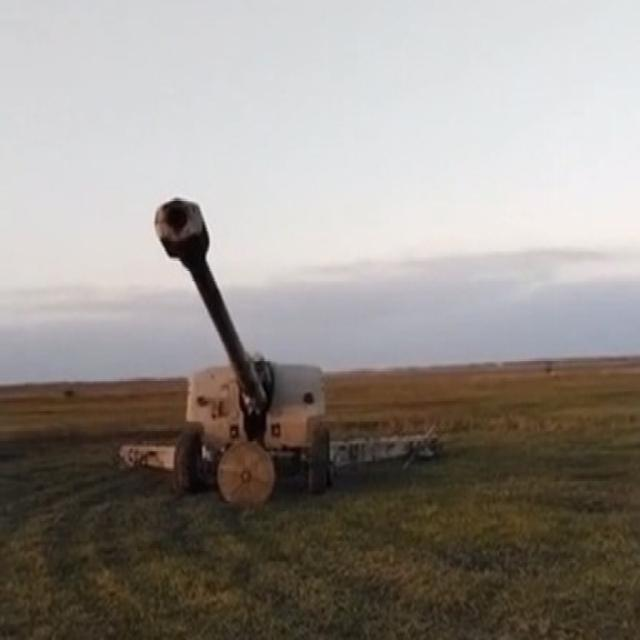ART: (114, 193, 441, 504)
